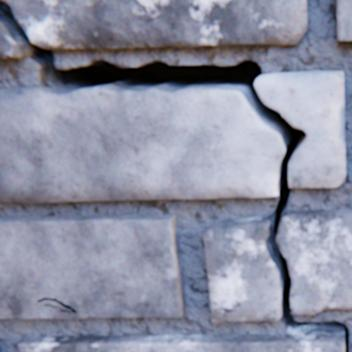brick: (0, 215, 186, 319), (19, 334, 344, 351), (337, 0, 351, 42)
broken_brick: (0, 86, 285, 203), (2, 0, 308, 50), (255, 72, 345, 188), (204, 217, 281, 321), (276, 210, 351, 314), (0, 23, 28, 59)
crack: (0, 0, 350, 351), (37, 297, 78, 312)
